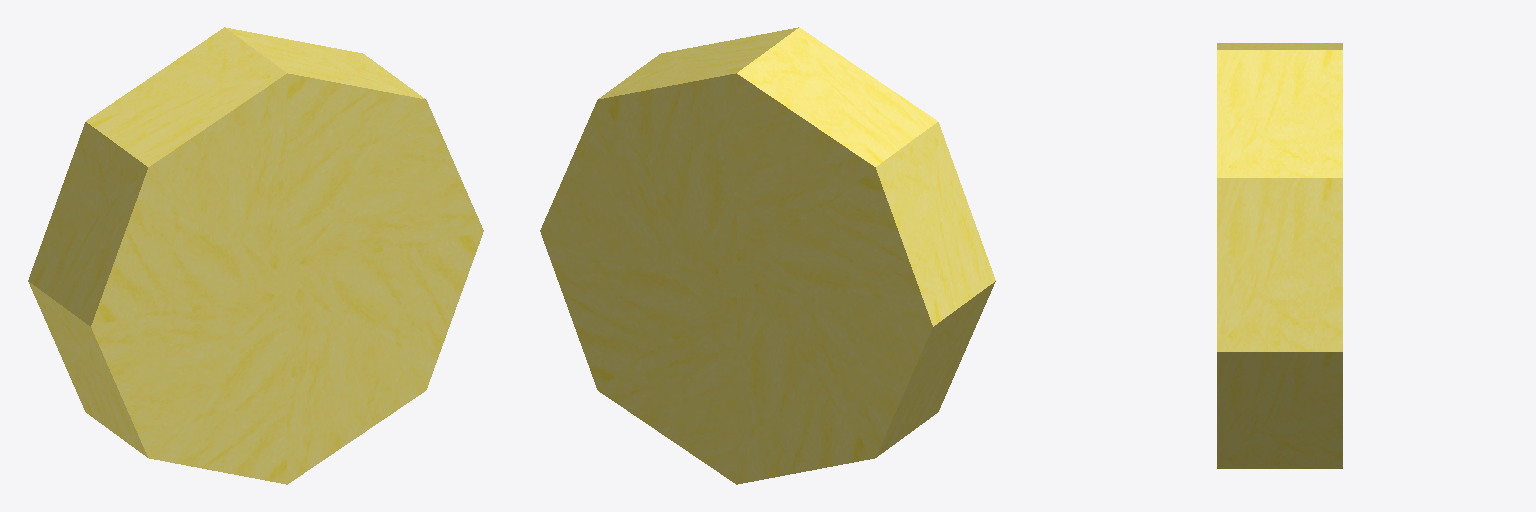
3 renders of one model, left to right at view 1: azimuth 30°, elevation 25°; view 2: azimuth 150°, elevation 25°; view 3: azimuth 270°, elevation 25°, orthographic.
Visible parts, largest first — view 1: ungrouped; view 2: ungrouped; view 3: ungrouped.
Boxes of the visible parts, x1,y1,x2,y2 form: ungrouped: [28, 27, 483, 484]; ungrouped: [540, 27, 995, 484]; ungrouped: [1217, 43, 1342, 468].
Bounding box in the file's own units: 8.42 × 8.42 × 2.33.
1 materials, 1 textured.